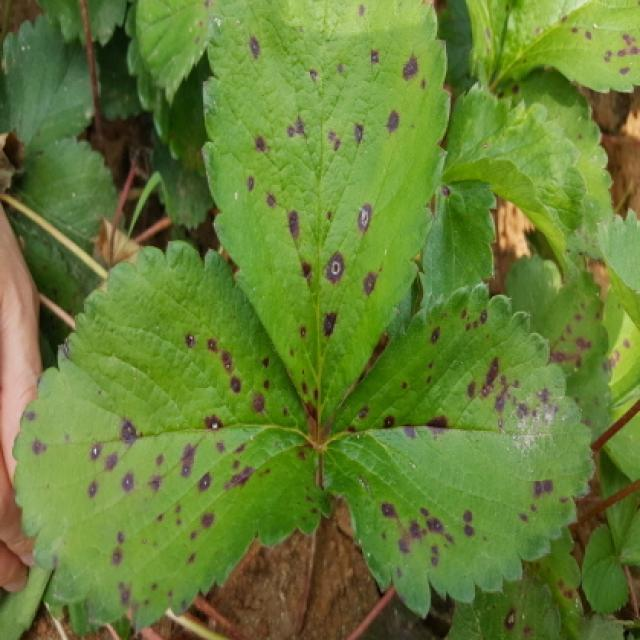Leaf Spot: (11, 238, 333, 637), (200, 0, 453, 441), (319, 282, 597, 618), (503, 254, 638, 443), (494, 68, 616, 239), (489, 0, 638, 96), (414, 180, 499, 313), (135, 0, 214, 109), (525, 529, 594, 638), (444, 575, 563, 638), (435, 0, 500, 95)
